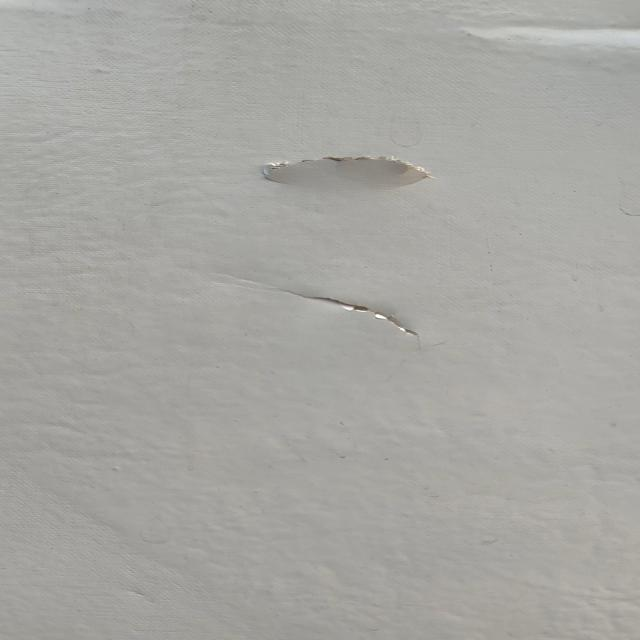Scratches: (242, 147, 466, 195)
